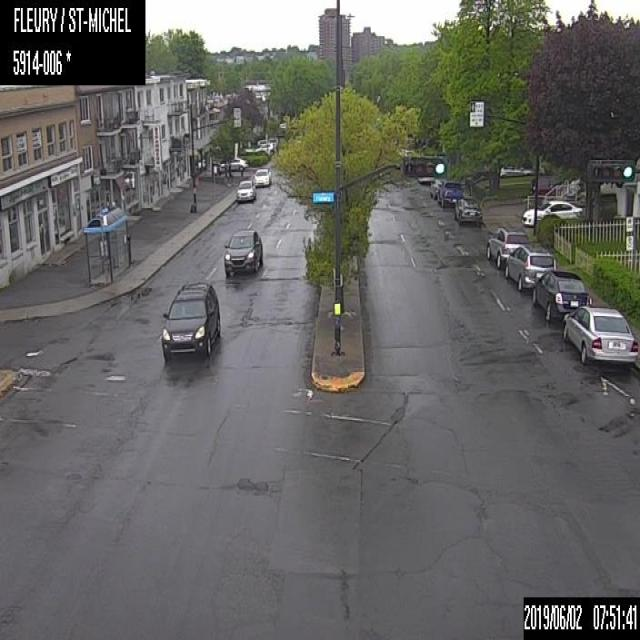vehicle: (560, 304, 639, 371), (160, 279, 220, 361), (531, 265, 592, 322), (503, 243, 556, 290), (222, 227, 263, 277), (485, 224, 529, 267), (522, 197, 583, 226), (454, 195, 483, 225), (439, 184, 461, 206), (252, 166, 271, 187), (236, 180, 254, 202), (221, 156, 246, 170), (429, 176, 444, 197)
